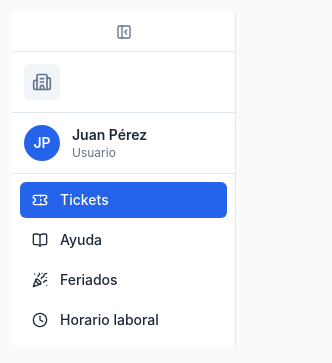
Test case: AppSidebar › Bloque de identidad (nombre + tipo de usuario) › colapsado → oculta nombre/tipo, muestra solo el círculo de iniciales
This screenshot has width=332, height=363.
Click the button named "Colapsar menú" at point(124, 32), box [12,12,235,52]
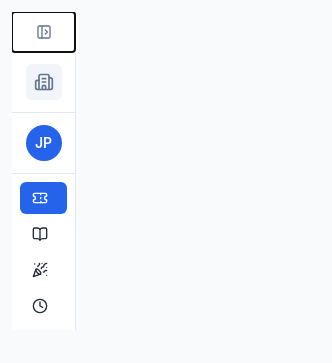
Check: the text "JP" is shown, box [26,125,62,161]
Check: the text "Juan Pérez" is gone
Check: the text "Usuario" is gone
